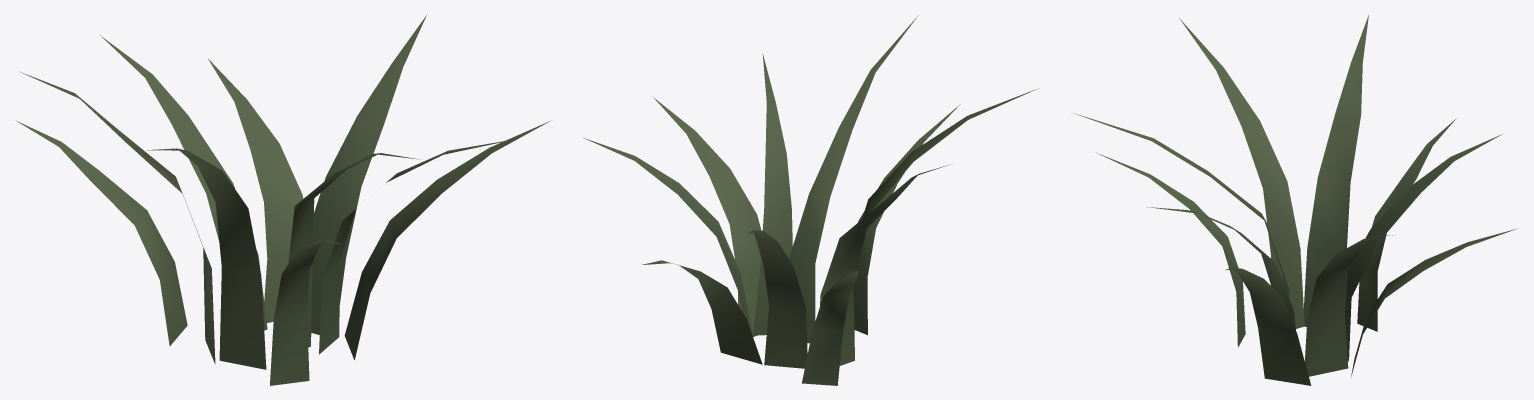
File: Grass2.fbx
3 renders of one model, left to right at view 1: azimuth 30°, elevation 25°; view 2: azimuth 150°, elevation 25°; view 3: azimuth 270°, elevation 25°, orthographic. The views are drawn at different scales.
Visible parts, largest first — view 1: Plane.037; view 2: Plane.037; view 3: Plane.037.
Boxes of the visible parts, box(x1,y1,x2,y2) form: Plane.037: box(16, 15, 549, 385); Plane.037: box(583, 15, 1038, 385); Plane.037: box(1073, 15, 1516, 385).
Bounding box in the file's own units: 106 × 70.79 × 112.
